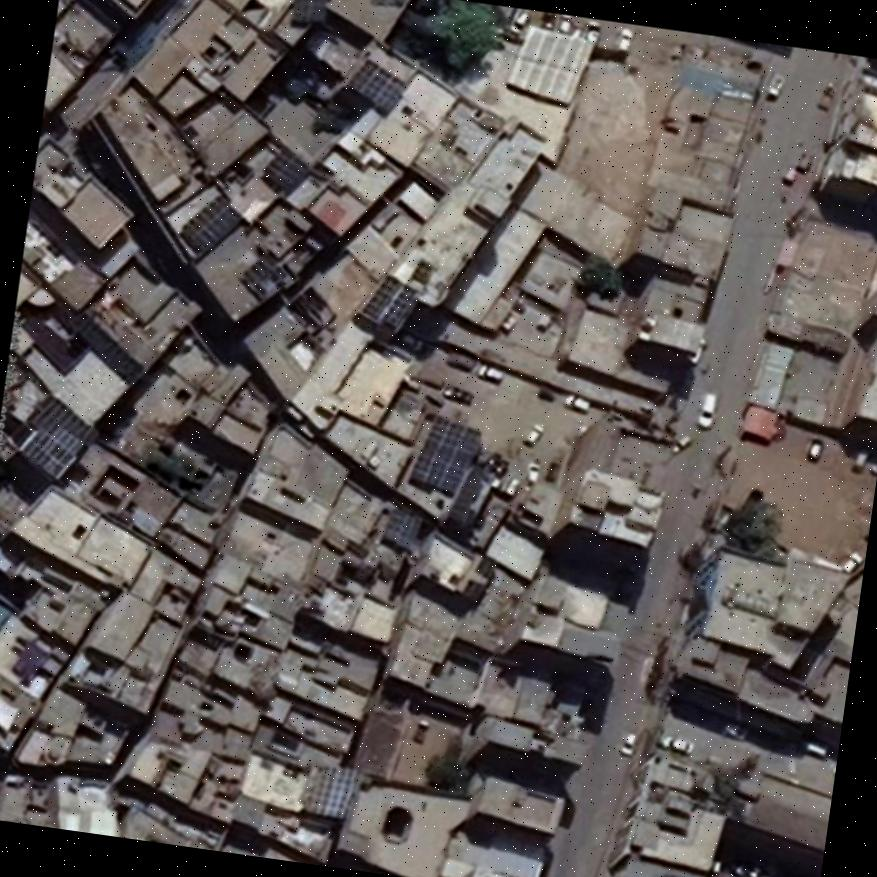Solarpanel: (18, 393, 91, 475), (408, 415, 480, 495), (179, 192, 244, 254), (355, 271, 419, 328), (347, 57, 408, 110), (306, 765, 355, 817), (261, 147, 307, 188), (385, 511, 422, 551), (290, 0, 325, 26)
